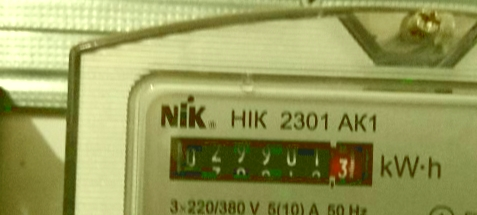0: (282, 143, 298, 168), (181, 145, 196, 168)
1: (309, 143, 322, 168)
2: (207, 141, 223, 164)
3: (333, 156, 349, 180)
9: (258, 144, 271, 167), (233, 142, 246, 163)
screen: (159, 128, 382, 197)
